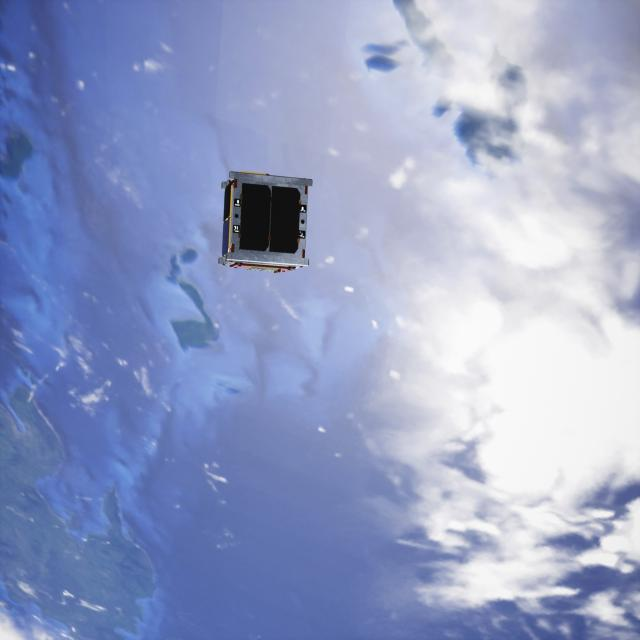medium_debris: (215, 169, 317, 278)
